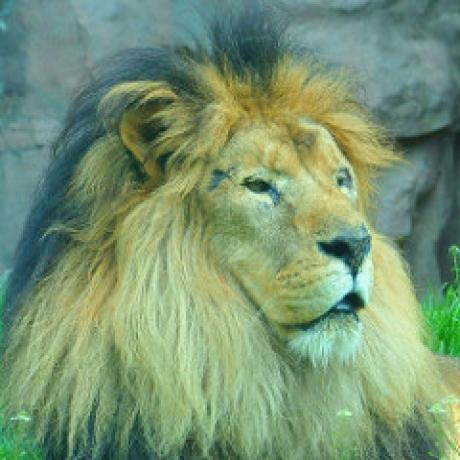Lion: (0, 6, 448, 460)
